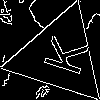K: (34, 31, 89, 77)
